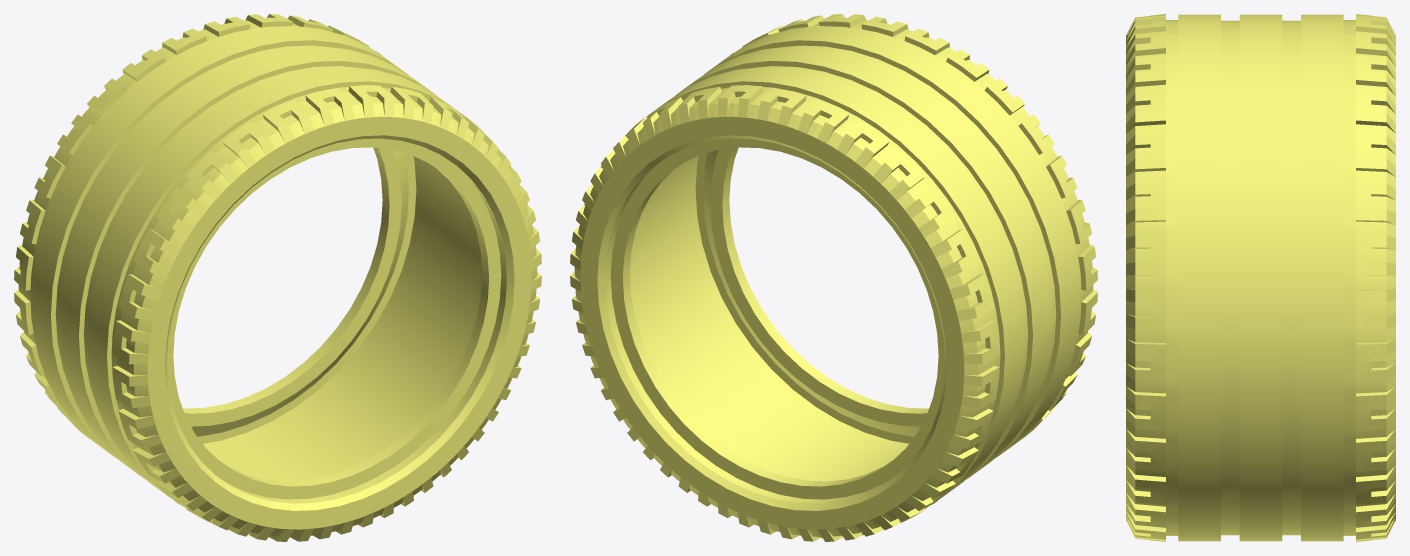
3 views of the same model, side by side, from view 1: azimuth 30°, elevation 25°; view 2: azimuth 150°, elevation 25°; view 3: azimuth 270°, elevation 25° (orthographic). The views are drawn at different scales.
Visible parts, largest first — view 1: 44771.dat; view 2: 44771.dat; view 3: 44771.dat.
Part boxes in pixels (box(x1,y1,x2,y2)): 44771.dat: box(14, 14, 541, 541); 44771.dat: box(570, 14, 1097, 541); 44771.dat: box(1126, 14, 1395, 541).
Size of the model in its own units: 0.0688 by 0.0689 by 0.0352.
